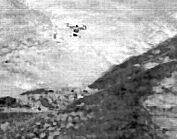Target: (66, 22, 87, 37)
